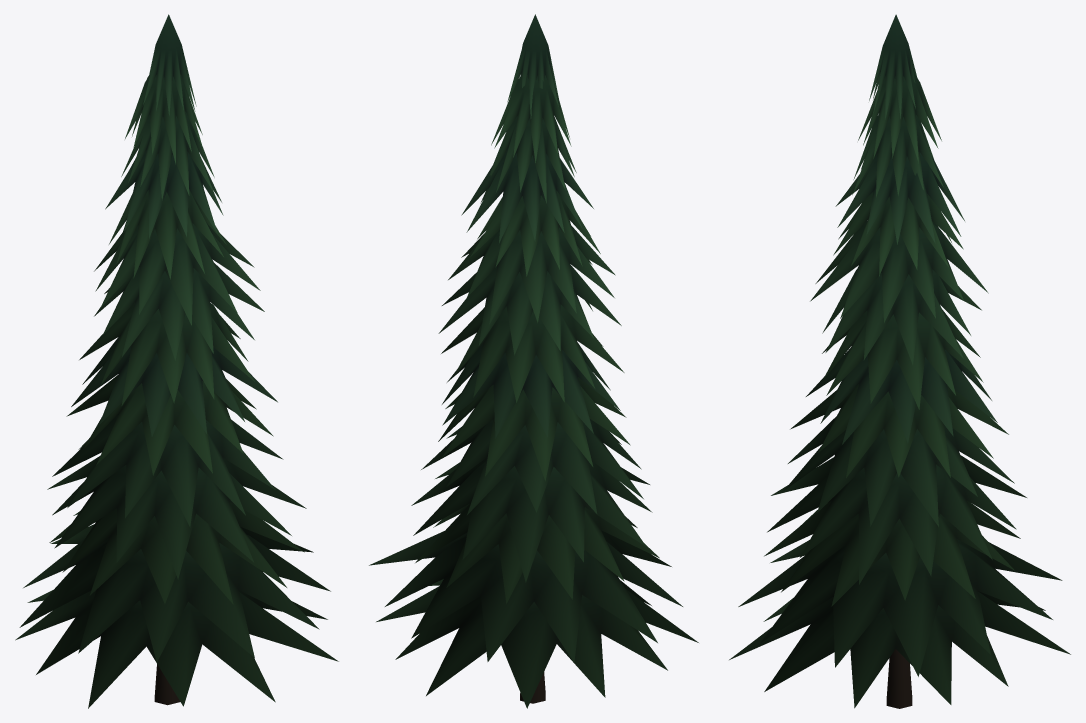
3 renders of one model, left to right at view 1: azimuth 30°, elevation 25°; view 2: azimuth 150°, elevation 25°; view 3: azimuth 270°, elevation 25°, orthographic.
Parts seen in each view (by area): view 1: TR_SpruceDark; view 2: TR_SpruceDark; view 3: TR_SpruceDark.
Boxes of the visible parts, <box> form: TR_SpruceDark: <box>15,14,338,708</box>; TR_SpruceDark: <box>369,14,698,708</box>; TR_SpruceDark: <box>729,14,1070,708</box>.
Bounding box in the file's own units: 9.1 × 20.31 × 9.19.
